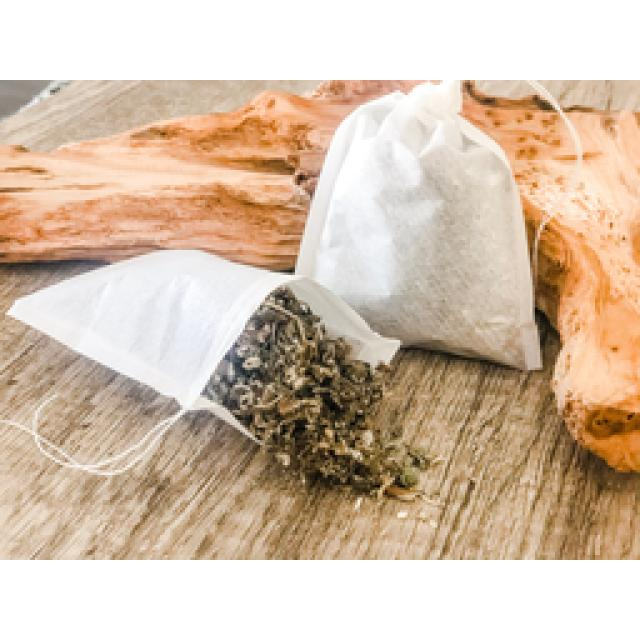tea-bags: (295, 78, 541, 369), (8, 247, 305, 408)
